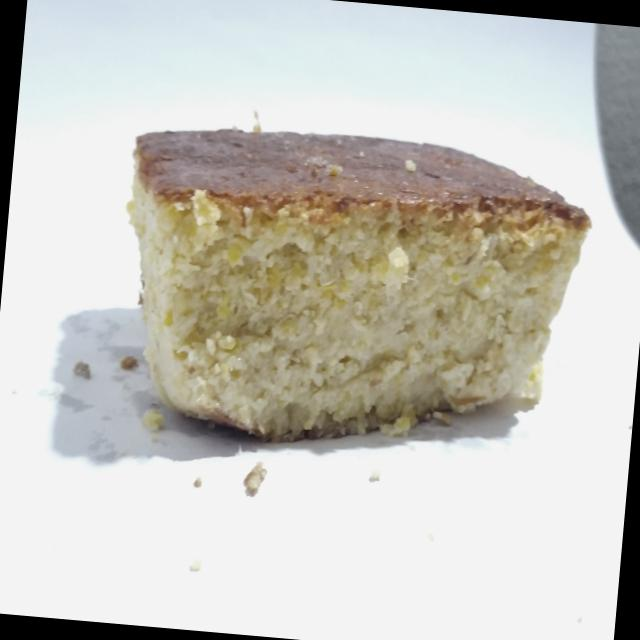Chipa_Guazu: (86, 92, 600, 484)
